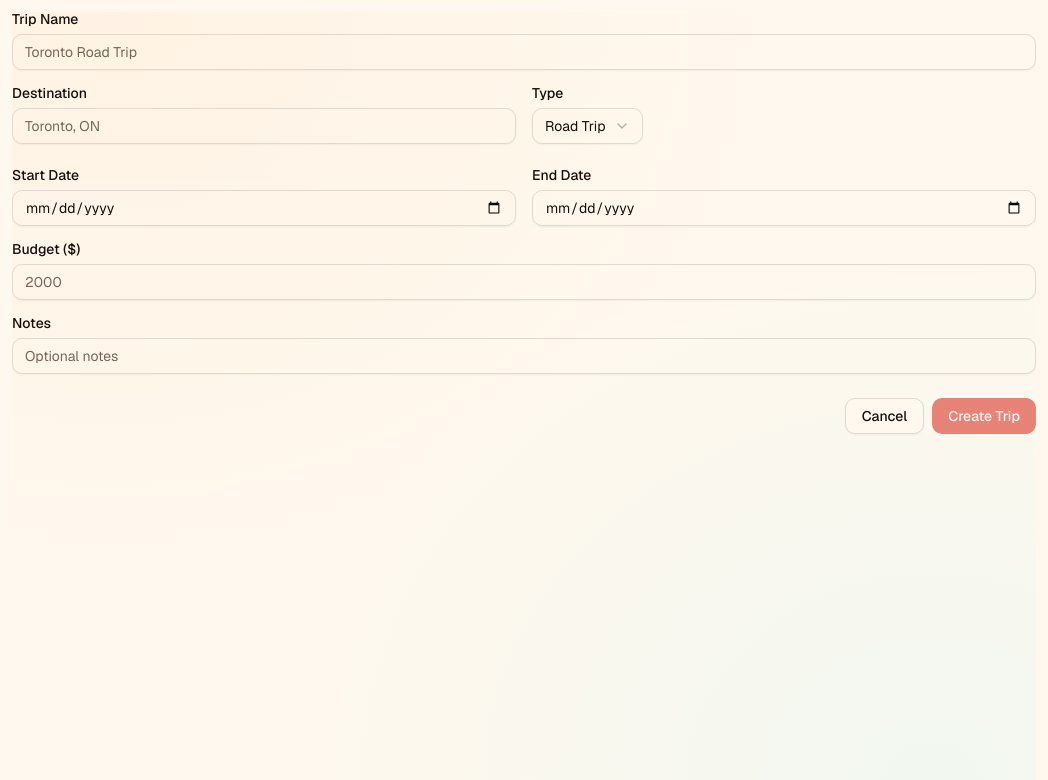
Scenario: TripForm behavior › shows API error message when request fails
Type "Summer Vacation" into the field labelled "Trip Name".
click(524, 52); type("Summer Vacation")  # box [12,34,1036,70]
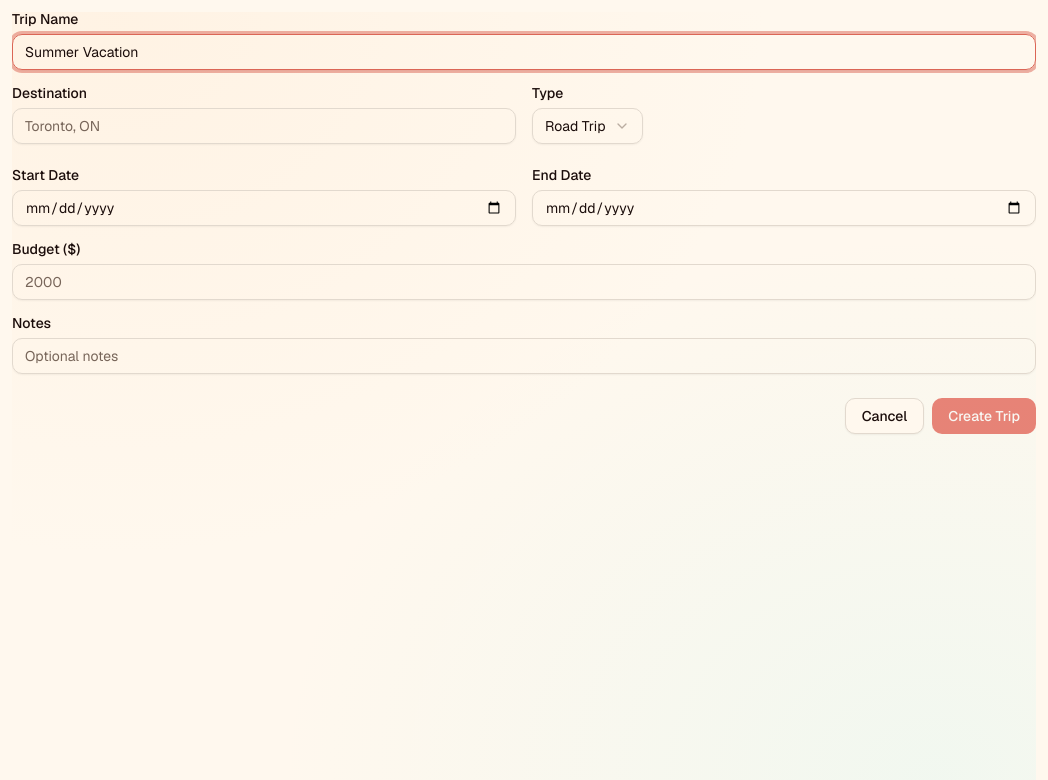
Type "Vancouver, BC" into the field labelled "Destination".
click(264, 126); type("Vancouver, BC")  # box [12,108,516,144]
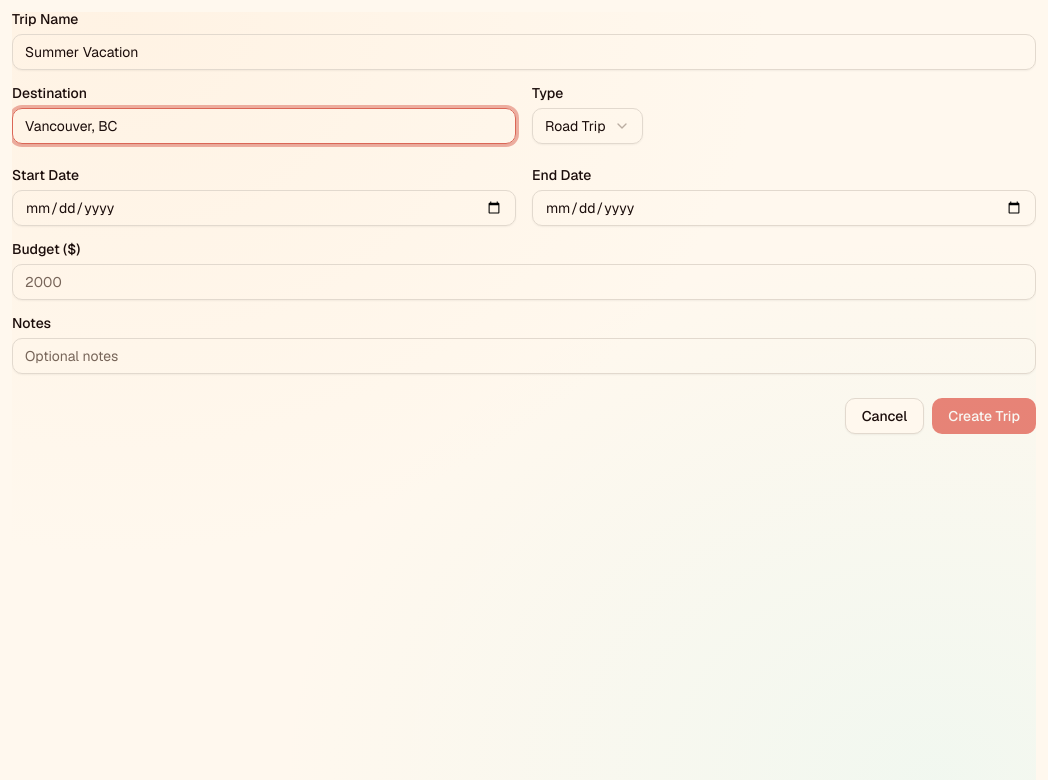
Type "2025-08-01" into the date field labelled "Start Date".
click(264, 208); type("2025-08-01")  # box [12,190,516,226]
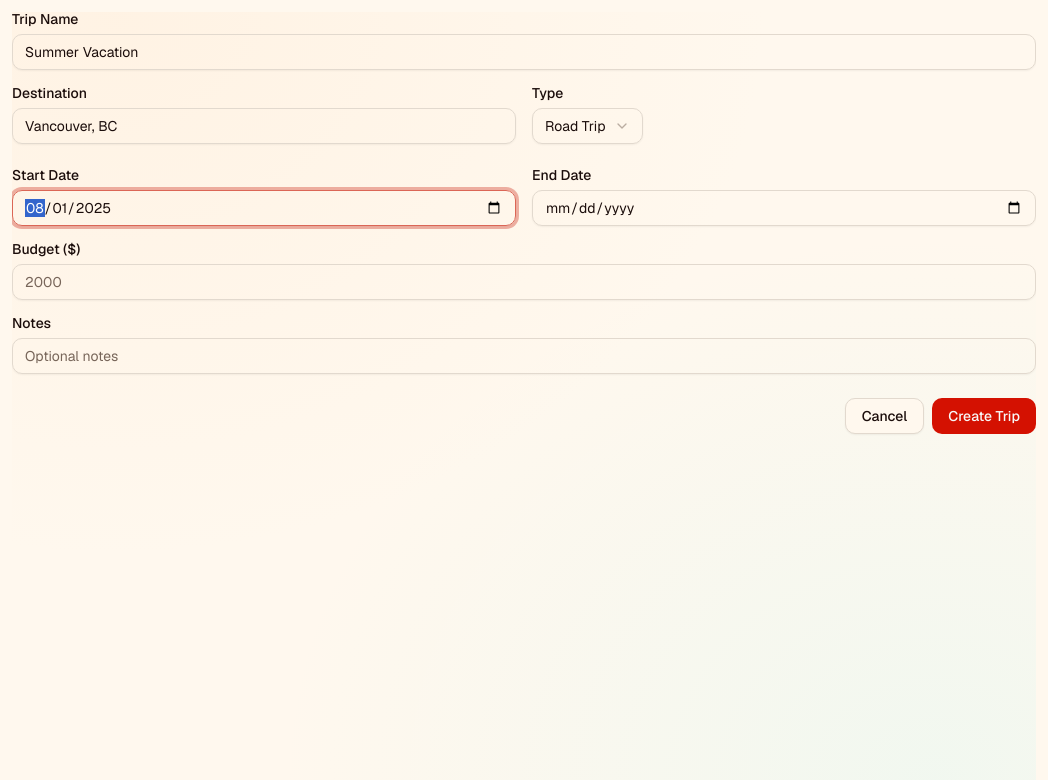
Click the button "Create Trip".
click(984, 416)  # box [932,398,1036,434]
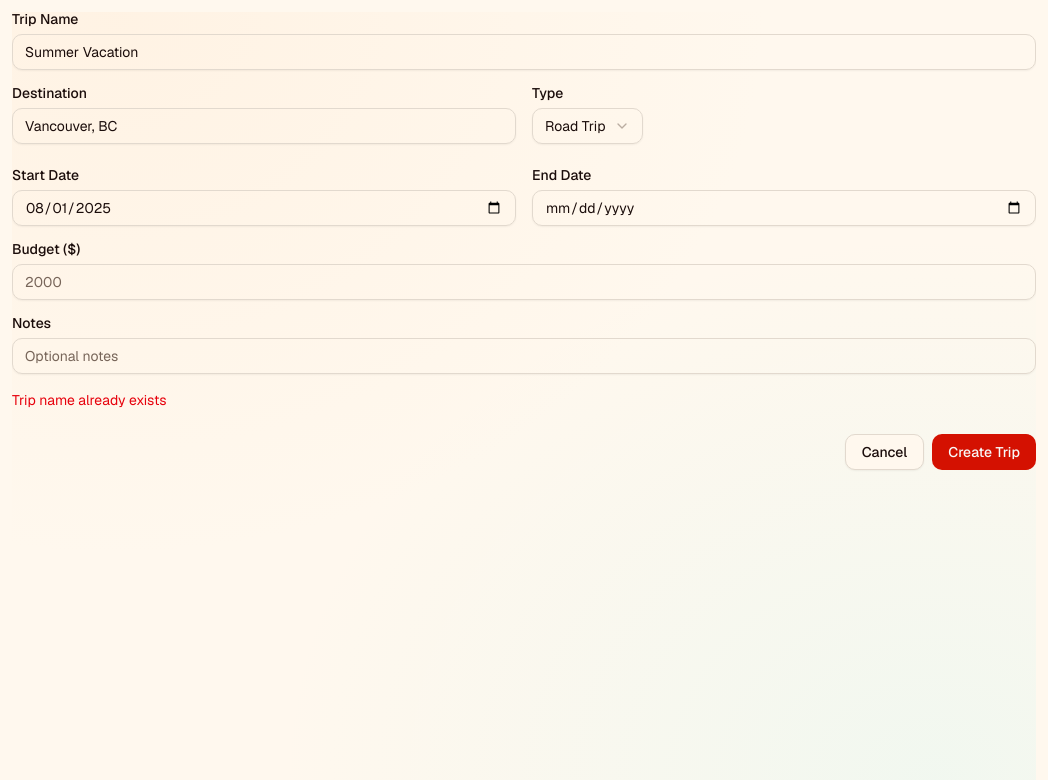
Result: the text "Trip name already exists" is shown at [12,391,166,409]
